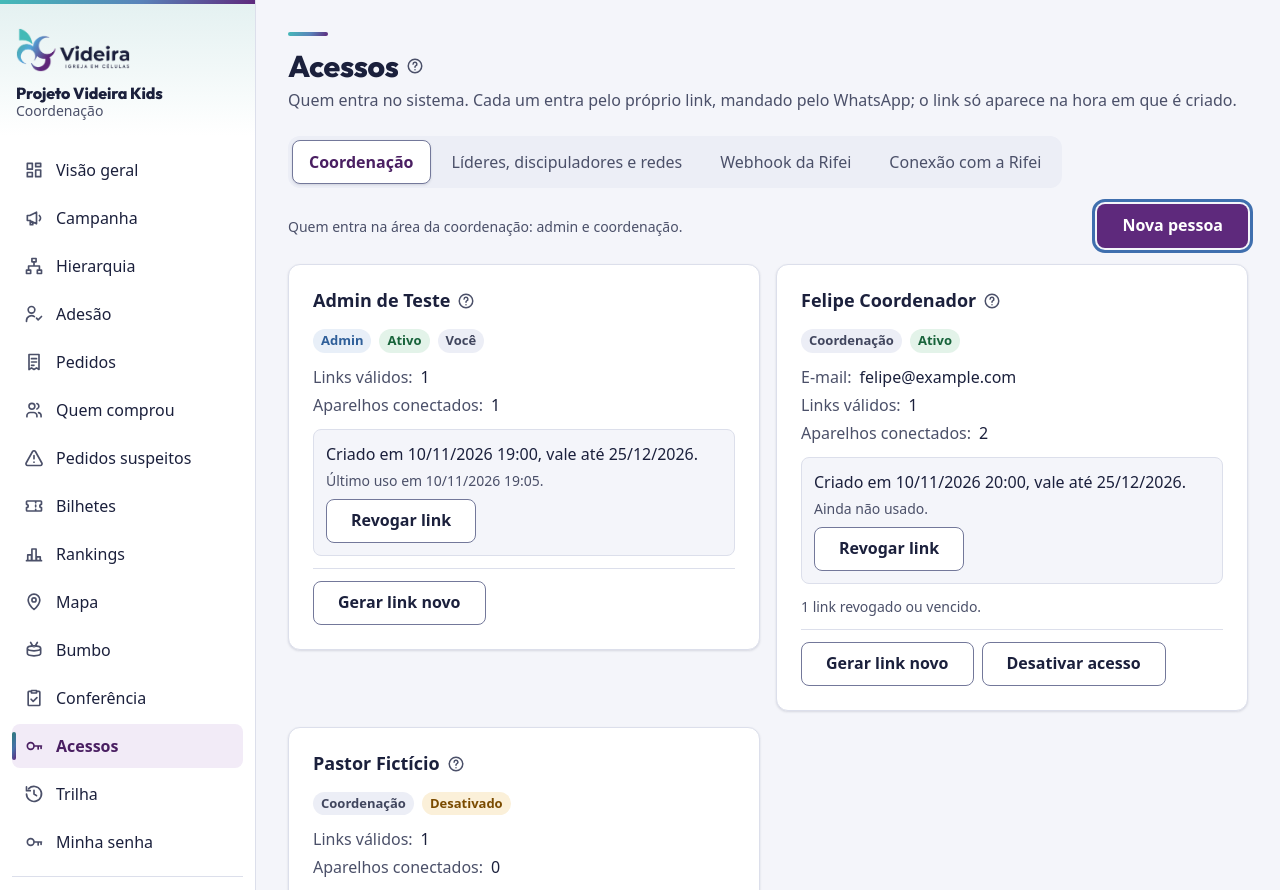
CA5: nova pessoa e o link mostrado uma vez › sem a área de transferência, o link fica selecionado no campo e a tela explica
The image size is (1280, 890).
Check: the heading "Admin de Teste" is shown, box [313,290,450,312]
Click the button "Nova pessoa" at [1173, 226], box [1097,204,1248,248]
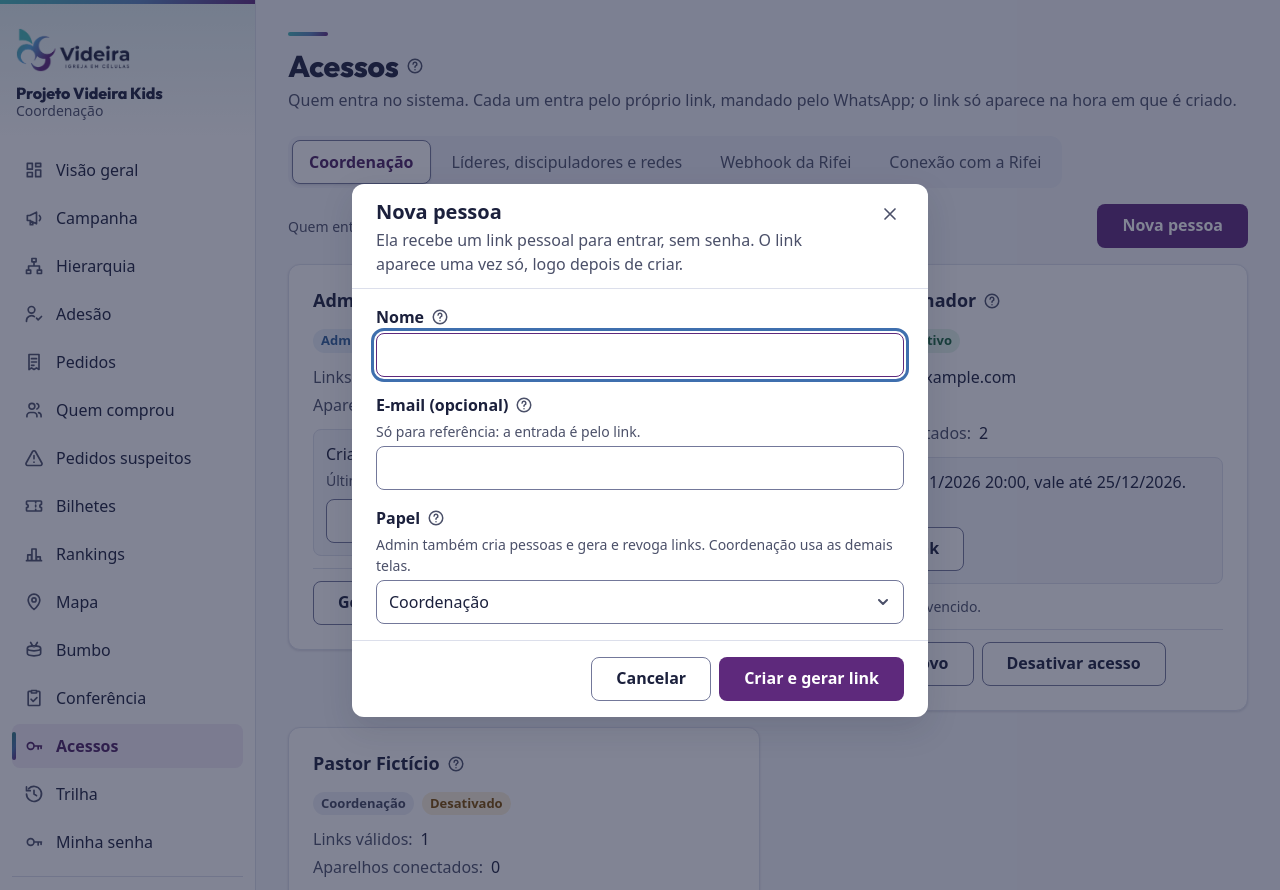
Type "Gestor do Bumbo" into the field labelled "Nome" at [640, 354], box [376,332,904,376]
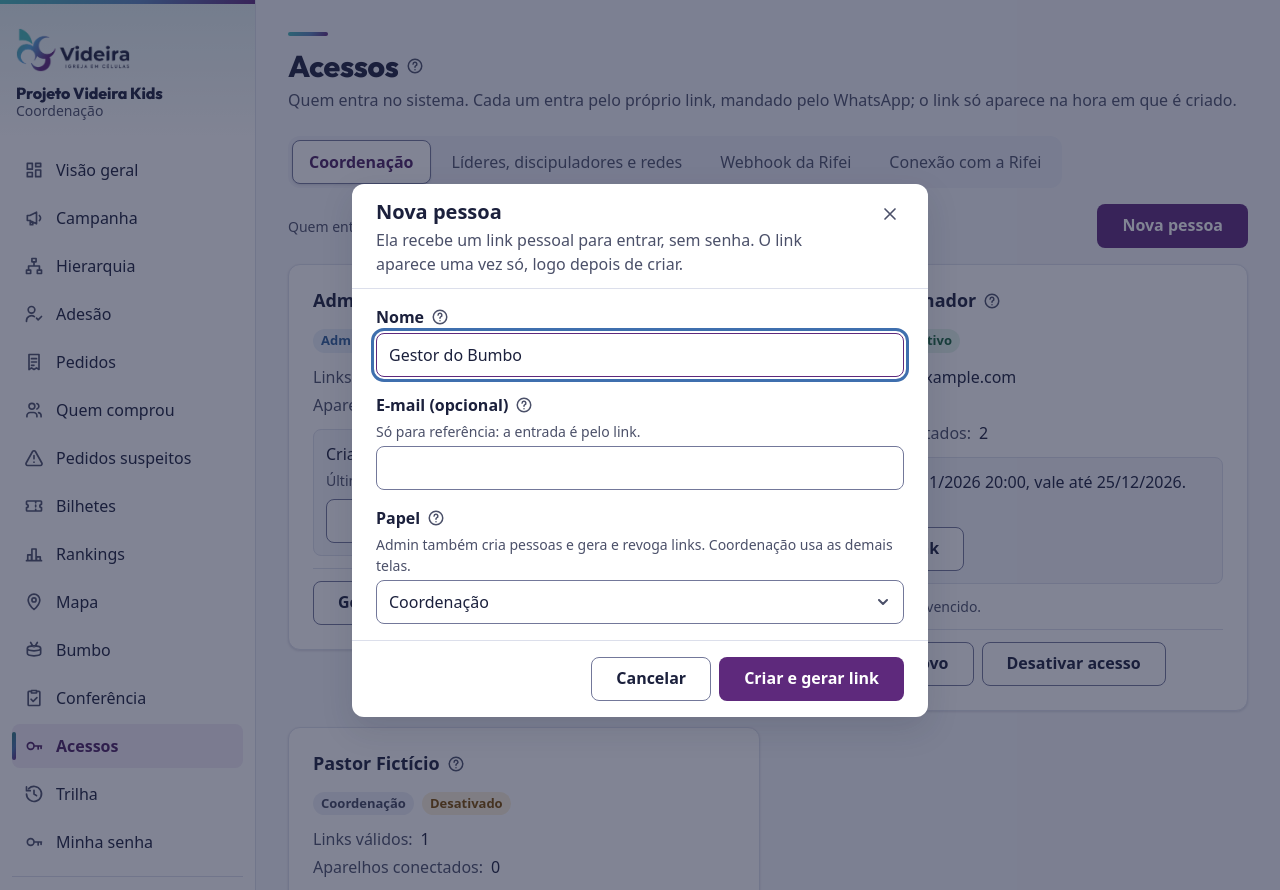
Click the button "Criar e gerar link" at [812, 678], box [719,656,904,700]
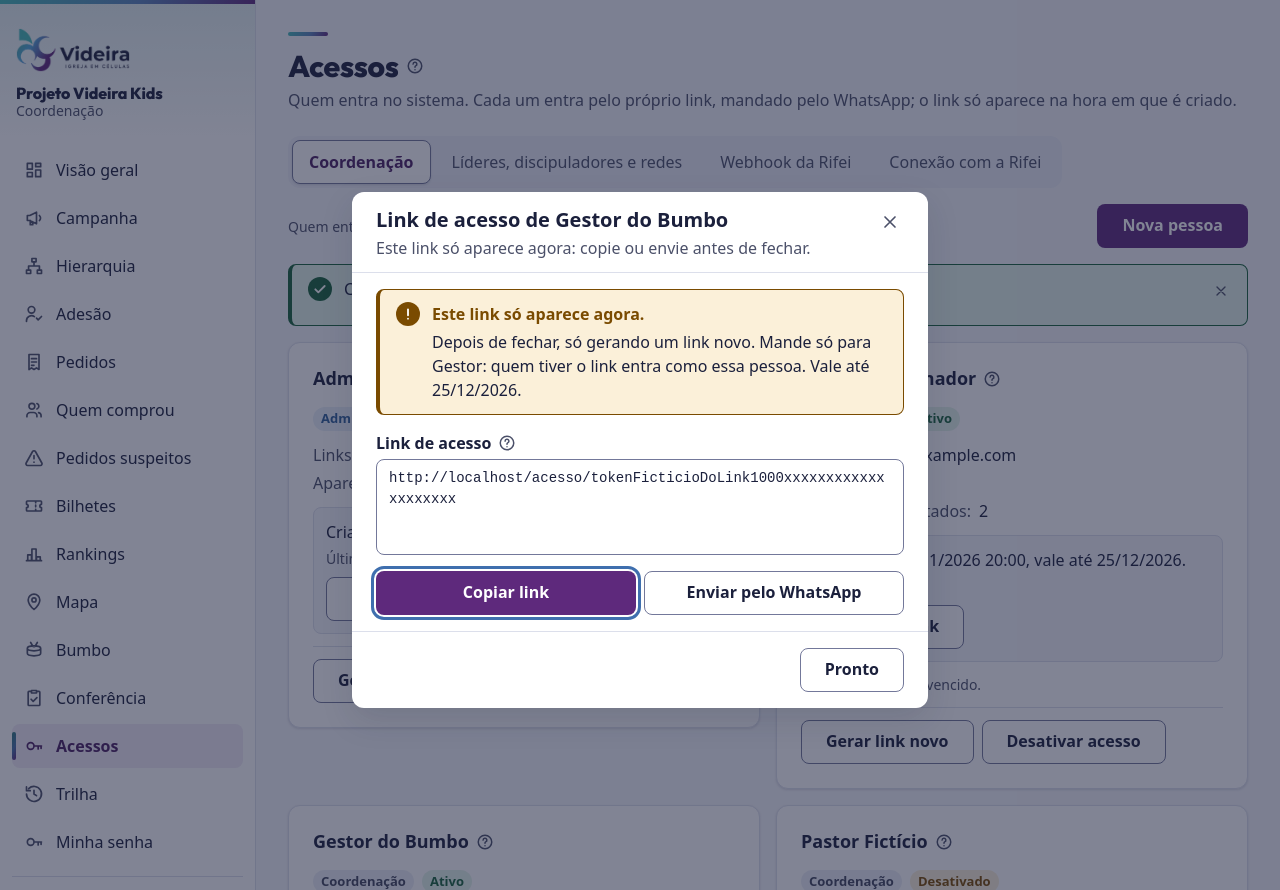
Click the button "Copiar link" at [506, 593], box [376,571,636,615]
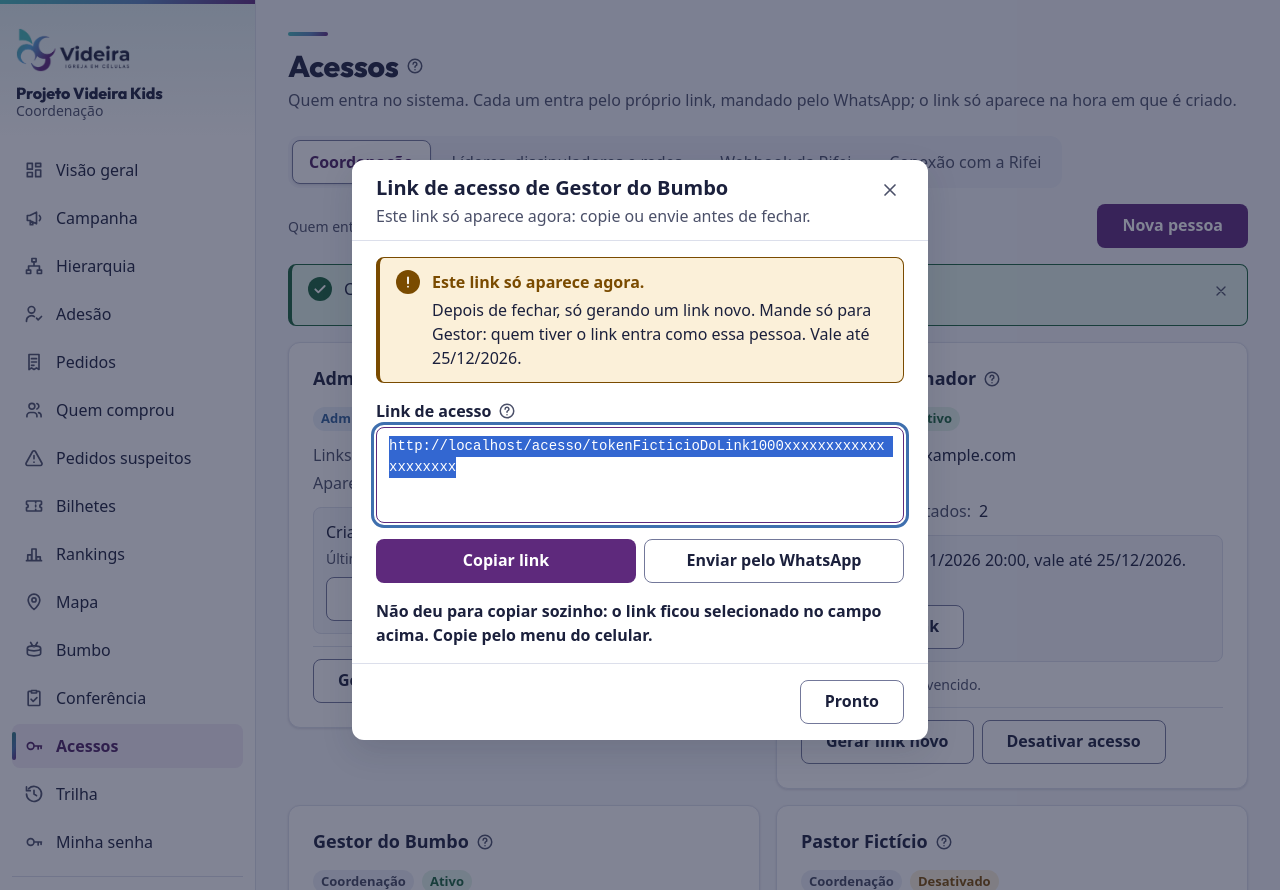
Check: the text "Não deu para copiar sozinho" is shown, box [376,600,881,646]
